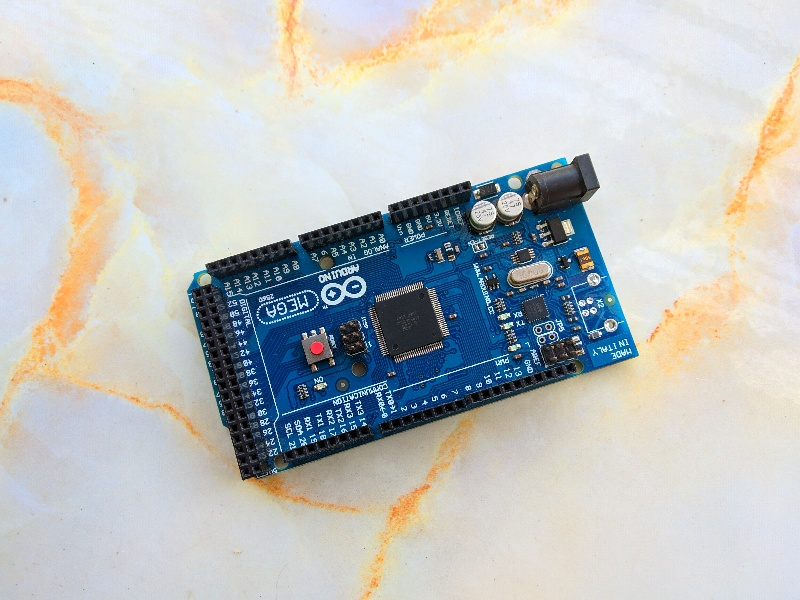Arduino Mega 2560: (180, 151, 665, 488)
